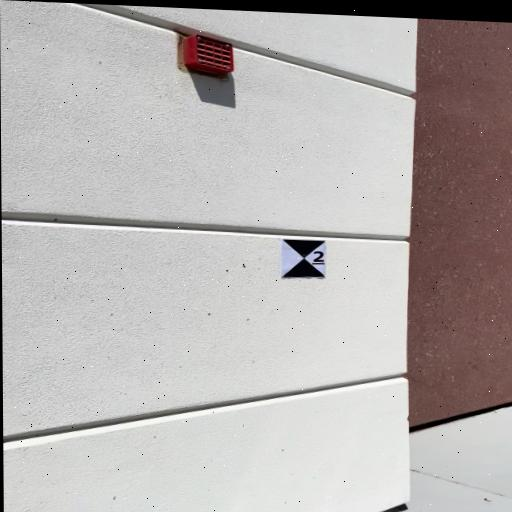target2: (281, 239, 328, 278)
